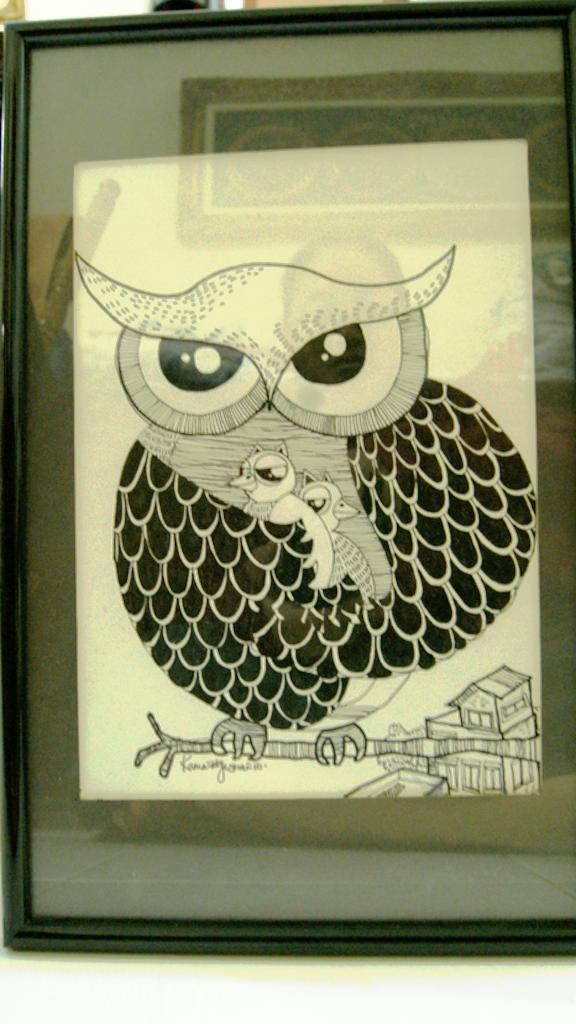Owl: (73, 236, 545, 768), (224, 440, 332, 588), (299, 465, 381, 605)
